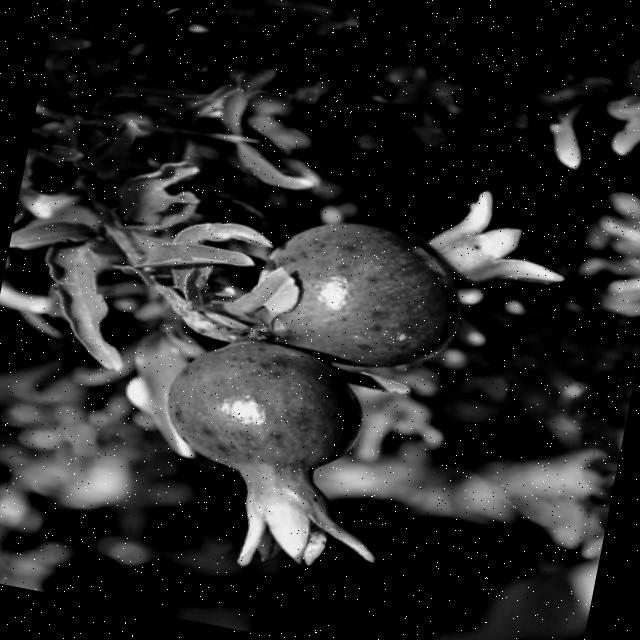Ripe: (202, 142, 592, 398), (134, 325, 421, 597)
